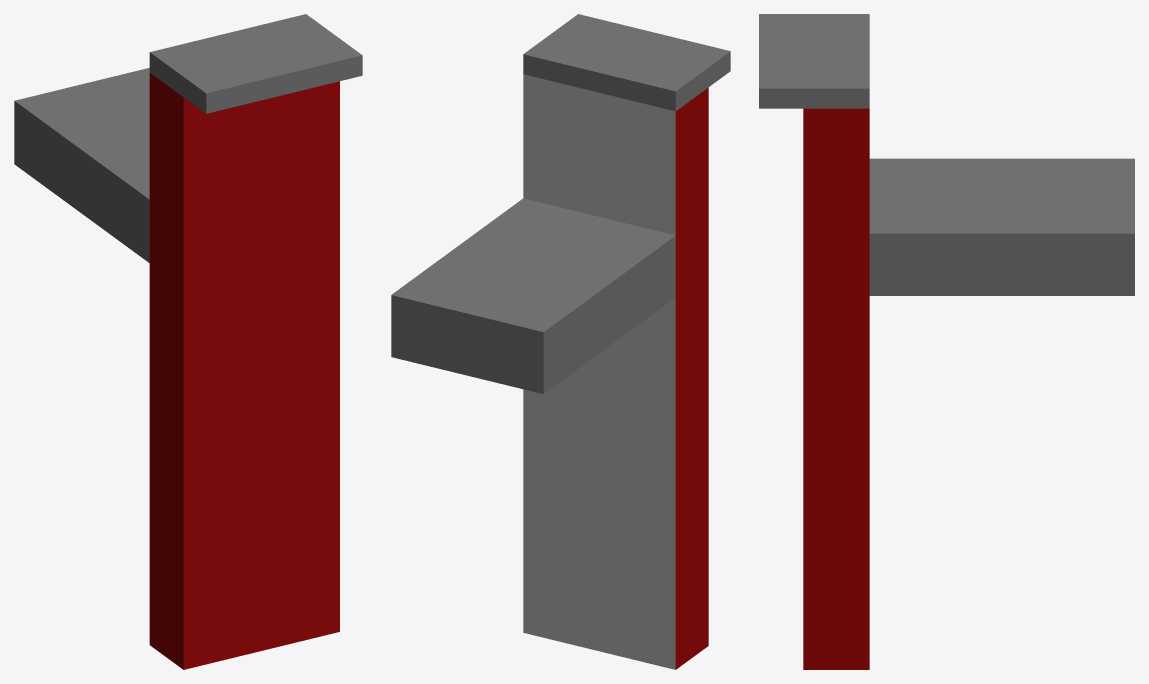
File: AanrechtModular.fbx
3 views of the same model, side by side, from view 1: azimuth 30°, elevation 25°; view 2: azimuth 150°, elevation 25°; view 3: azimuth 270°, elevation 25° (orthographic). The views are drawn at different scales.
Visible parts, largest first — view 1: AanrechtModular; view 2: AanrechtModular; view 3: AanrechtModular.
Boxes of the visible parts, x1=… form: AanrechtModular: x1=14, y1=14, x2=362, y2=669; AanrechtModular: x1=391, y1=14, x2=730, y2=669; AanrechtModular: x1=759, y1=14, x2=1134, y2=669.
Bounding box in the file's own units: 2 × 7.25 × 4.25.
